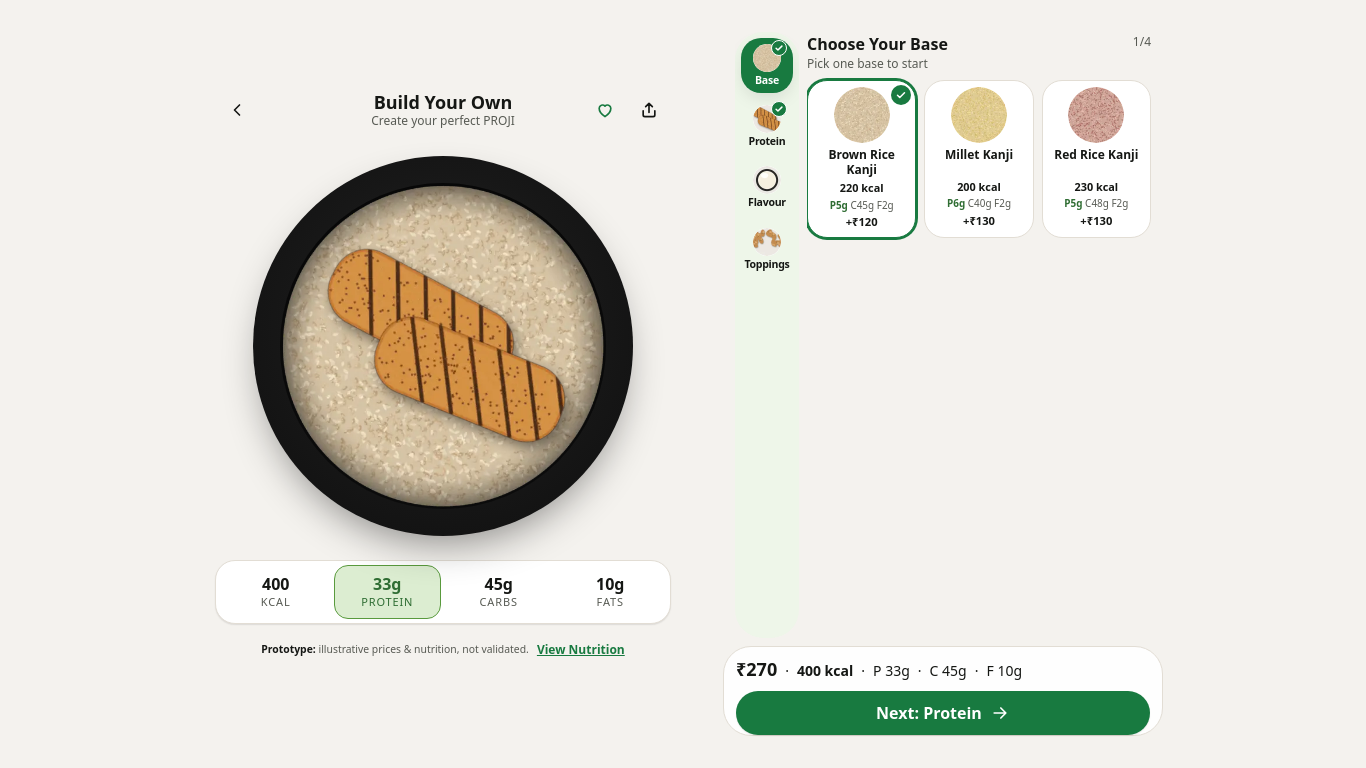
Scenario: CustomizePage › P-05 View Nutrition dialog with breakdown and illustrative label
Click the button "View Nutrition". click: (581, 650)
box: [537,628,625,672]
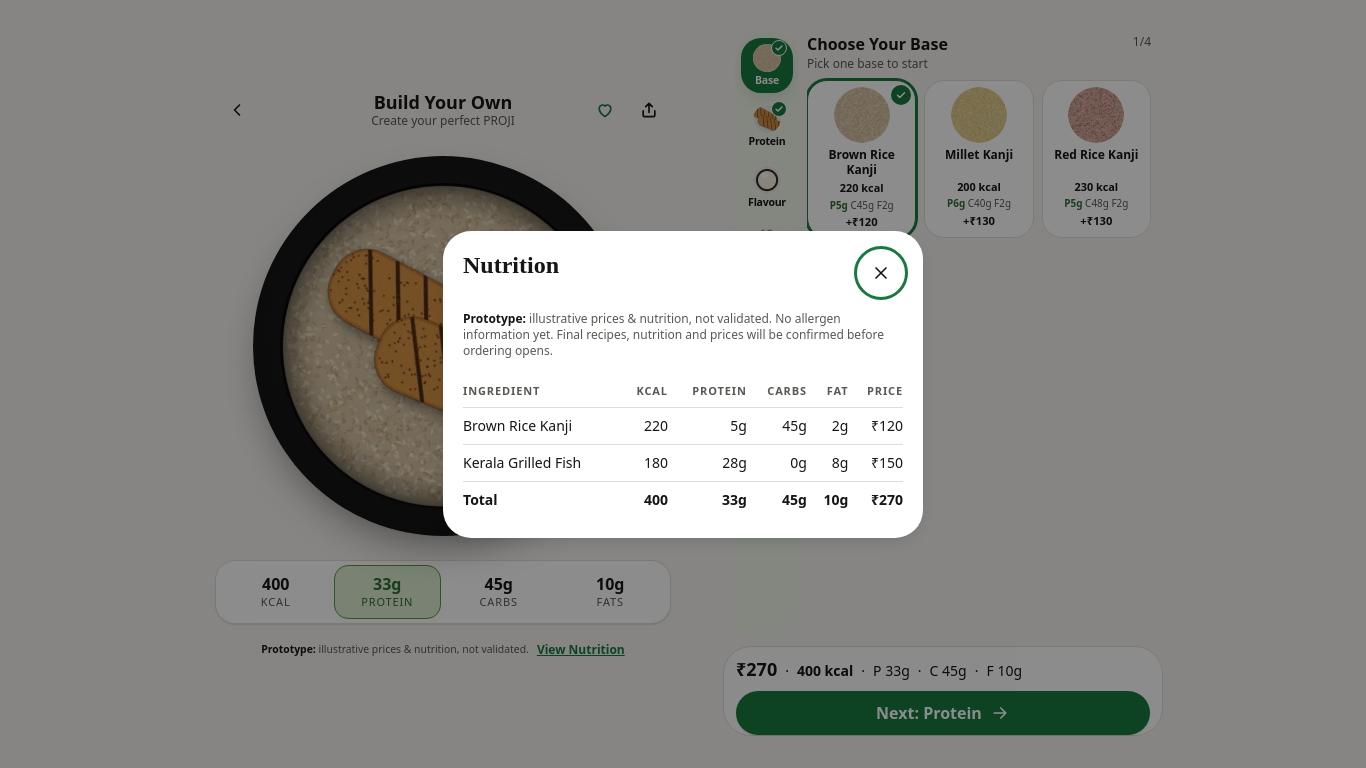
Now the column heading "Kerala Grilled Fish" is shown, box [463,444,622,481]
Now the element with test id "prototype-notice" shows "no allergen information", box [463,310,884,358]
Click the button named "Close". click: (881, 272)
box: [859,250,903,294]
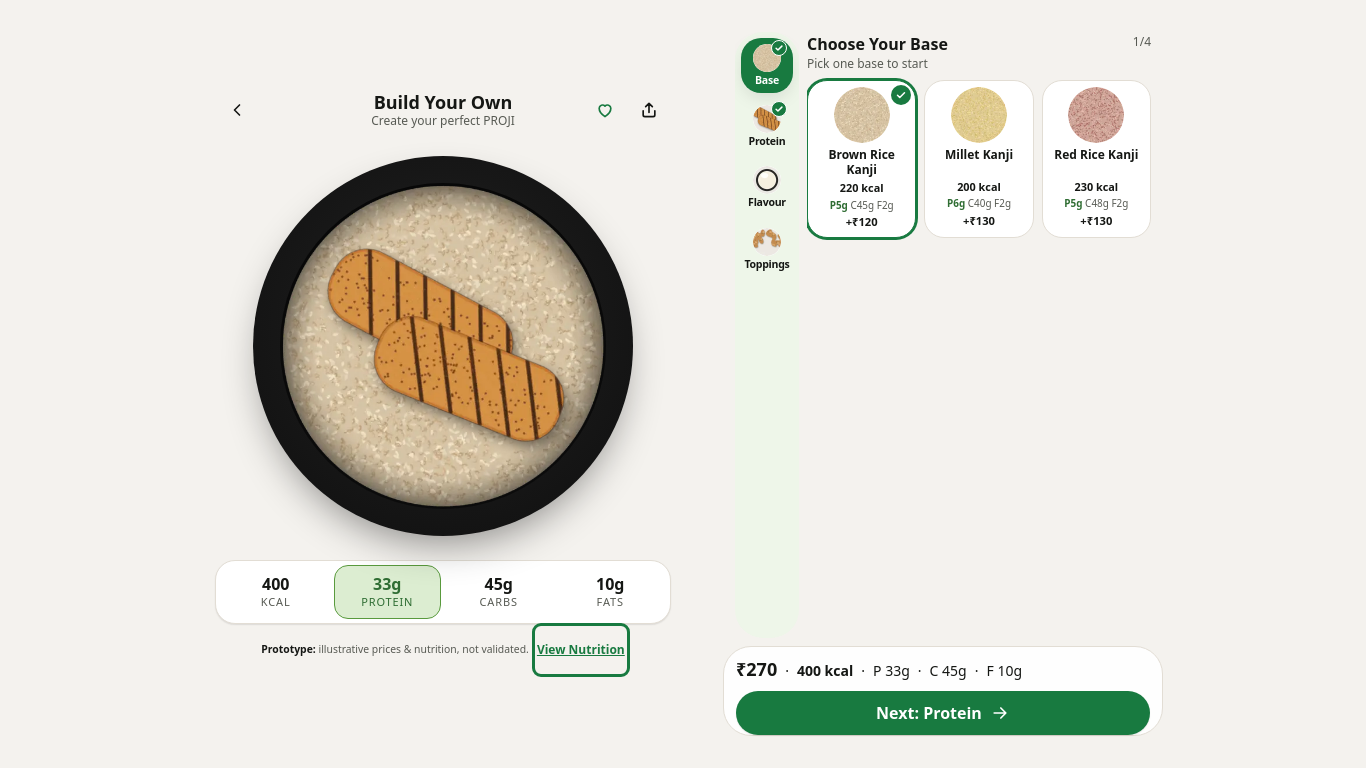
Now the dialog is gone
